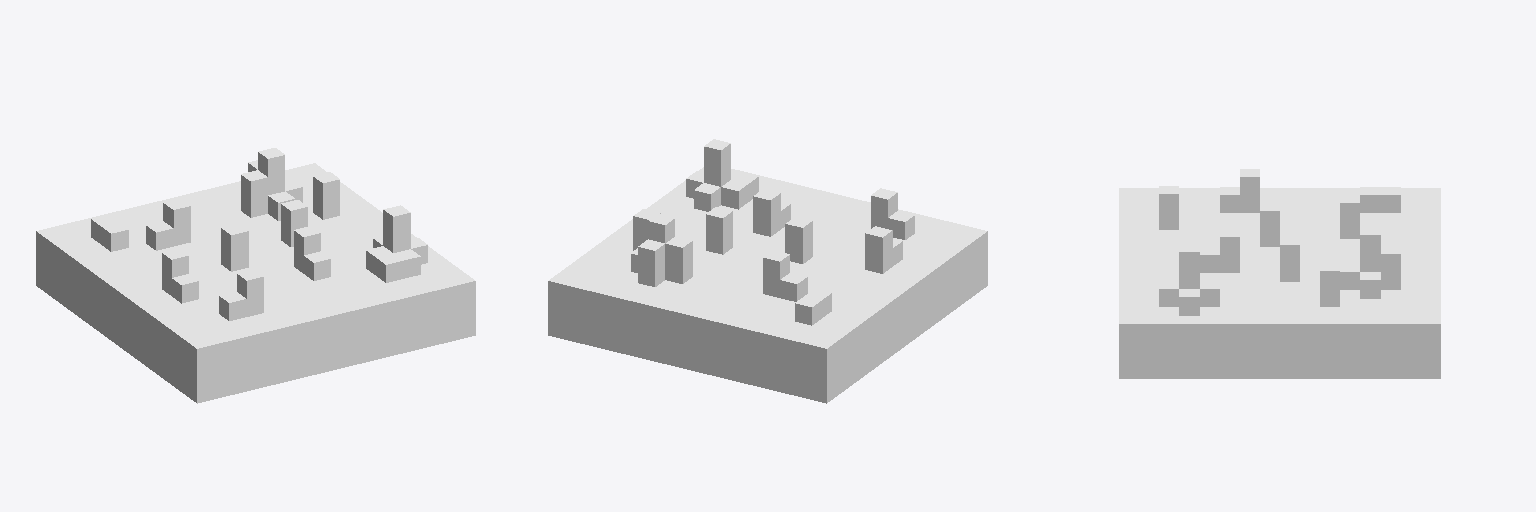
File: Decor.obj
The picture shows the model from 3 angles: view 1: azimuth 30°, elevation 25°; view 2: azimuth 150°, elevation 25°; view 3: azimuth 270°, elevation 25°; orthographic projection.
Parts seen in each view (by area): view 1: CaveDecor; view 2: CaveDecor; view 3: CaveDecor.
Boxes of the visible parts, x1=… form: CaveDecor: x1=36, y1=148, x2=475, y2=403; CaveDecor: x1=548, y1=139, x2=987, y2=403; CaveDecor: x1=1119, y1=169, x2=1440, y2=378.
Bounding box in the file's own units: 16 × 6 × 16.